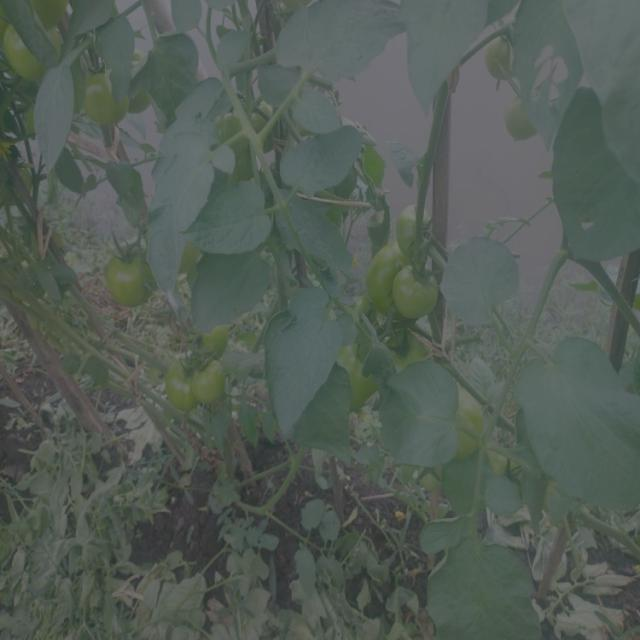tomato: (367, 247, 445, 328), (98, 239, 157, 304), (218, 109, 274, 171), (163, 360, 228, 410), (3, 23, 62, 78), (81, 71, 124, 126), (345, 343, 380, 408), (466, 391, 489, 456), (394, 210, 436, 241), (506, 105, 539, 142), (127, 66, 153, 109), (393, 334, 423, 369), (490, 37, 513, 77), (203, 332, 231, 355), (36, 1, 71, 18)
